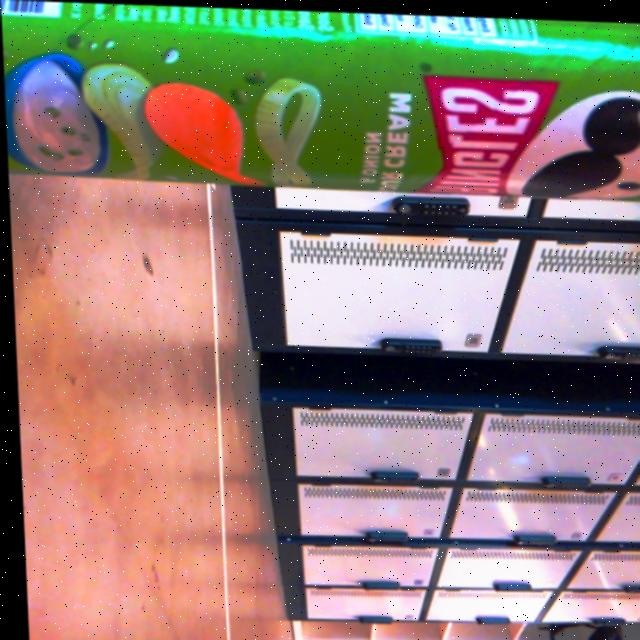greenpringles: (0, 0, 640, 214)
